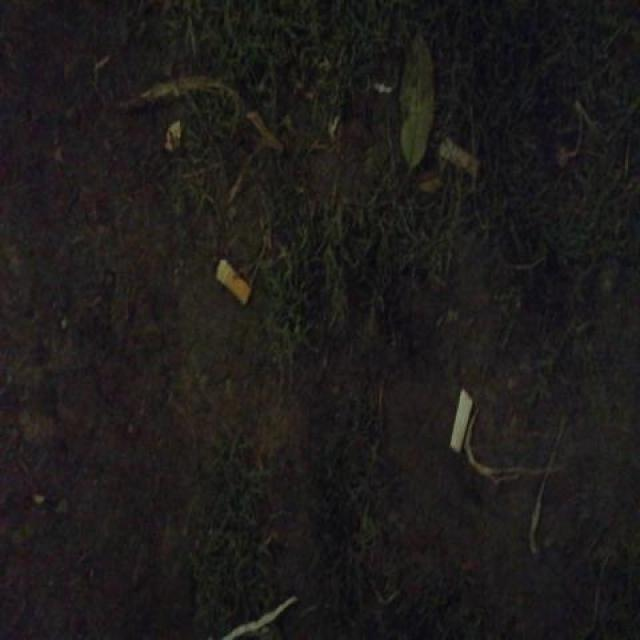non-organic waste: (435, 130, 488, 183), (209, 256, 255, 312), (445, 384, 476, 459)
